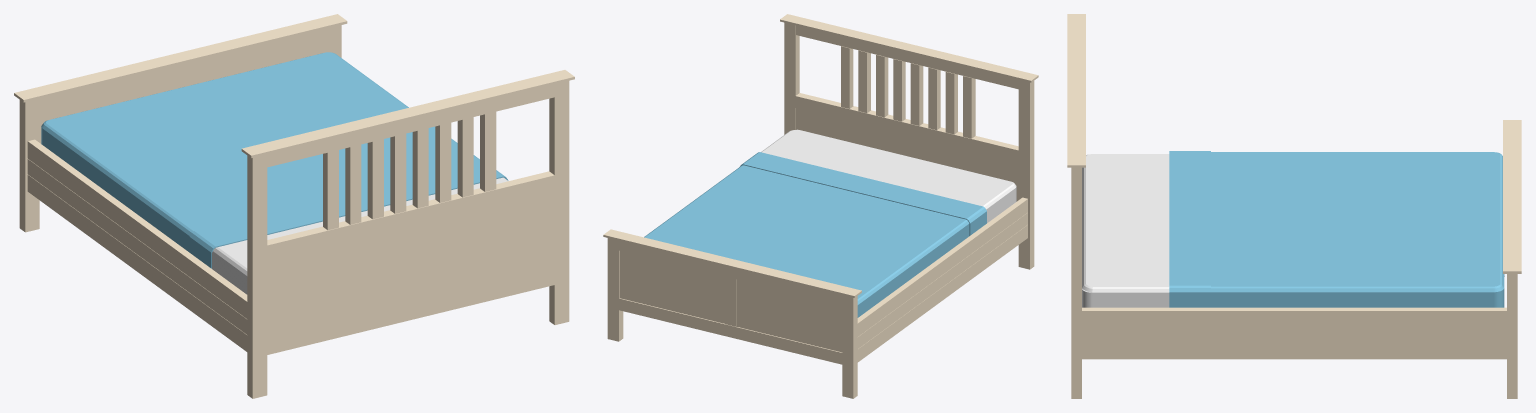
The picture shows the model from 3 angles, left to right: view 1: azimuth 30°, elevation 25°; view 2: azimuth 150°, elevation 25°; view 3: azimuth 270°, elevation 25°; orthographic projection. The views are drawn at different scales.
Parts seen in each view (by area): view 1: Mesh4 Group2 Model, Mesh6 Group7 Sheet_1_1 G_25cm_thick_Queen_Mattress1 Model, Mesh5 Group6 G_25cm_thick_Queen_Mattress1 Model; view 2: Mesh4 Group2 Model, Mesh6 Group7 Sheet_1_1 G_25cm_thick_Queen_Mattress1 Model, Mesh5 Group6 G_25cm_thick_Queen_Mattress1 Model; view 3: Mesh6 Group7 Sheet_1_1 G_25cm_thick_Queen_Mattress1 Model, Mesh4 Group2 Model, Mesh5 Group6 G_25cm_thick_Queen_Mattress1 Model.
Part boxes in pixels (bbox=[...]): Mesh4 Group2 Model: bbox=[14, 14, 574, 398]; Mesh6 Group7 Sheet_1_1 G_25cm_thick_Queen_Mattress1 Model: bbox=[41, 52, 508, 268]; Mesh5 Group6 G_25cm_thick_Queen_Mattress1 Model: bbox=[212, 177, 508, 294]; Mesh4 Group2 Model: bbox=[603, 14, 1038, 398]; Mesh6 Group7 Sheet_1_1 G_25cm_thick_Queen_Mattress1 Model: bbox=[644, 152, 986, 317]; Mesh5 Group6 G_25cm_thick_Queen_Mattress1 Model: bbox=[761, 129, 1016, 222]; Mesh6 Group7 Sheet_1_1 G_25cm_thick_Queen_Mattress1 Model: bbox=[1169, 151, 1504, 307]; Mesh4 Group2 Model: bbox=[1067, 14, 1521, 398]; Mesh5 Group6 G_25cm_thick_Queen_Mattress1 Model: bbox=[1082, 154, 1169, 307].
Size of the model in its own units: 0.5646 by 0.4095 by 0.7166.
